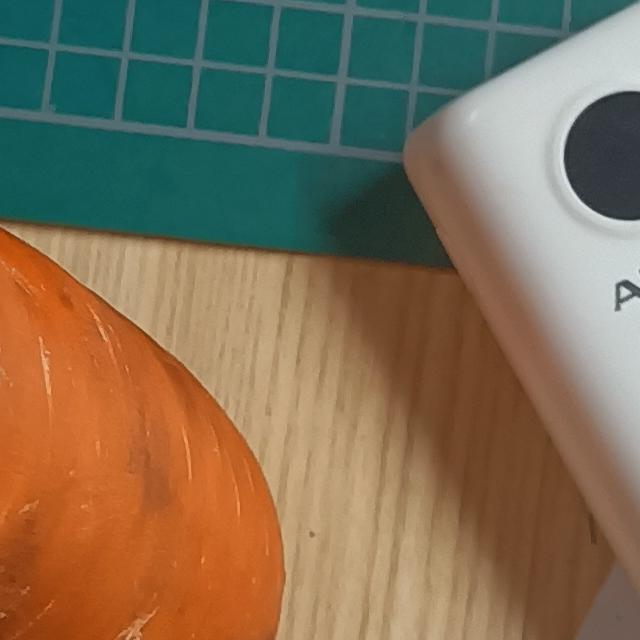carrot: (1, 67, 300, 640)
